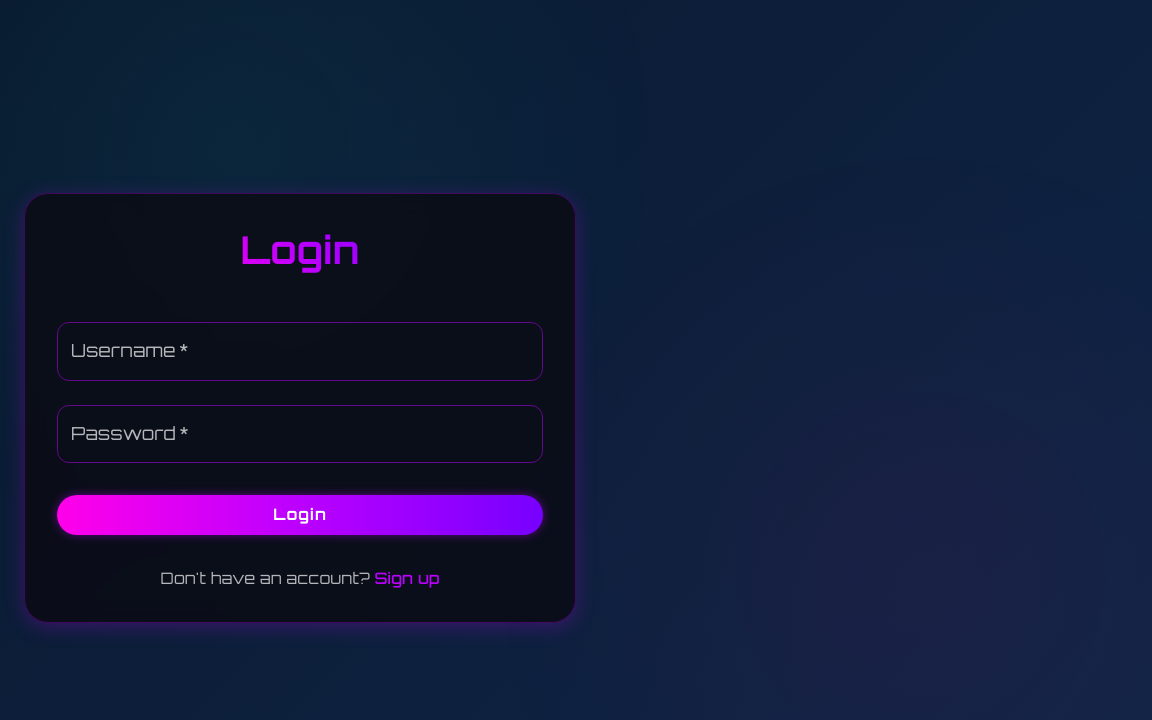
Test case: Login Component › handles login error
Type "wronguser" into the field labelled "Username *". click: (300, 351)
box: [57, 322, 543, 381]
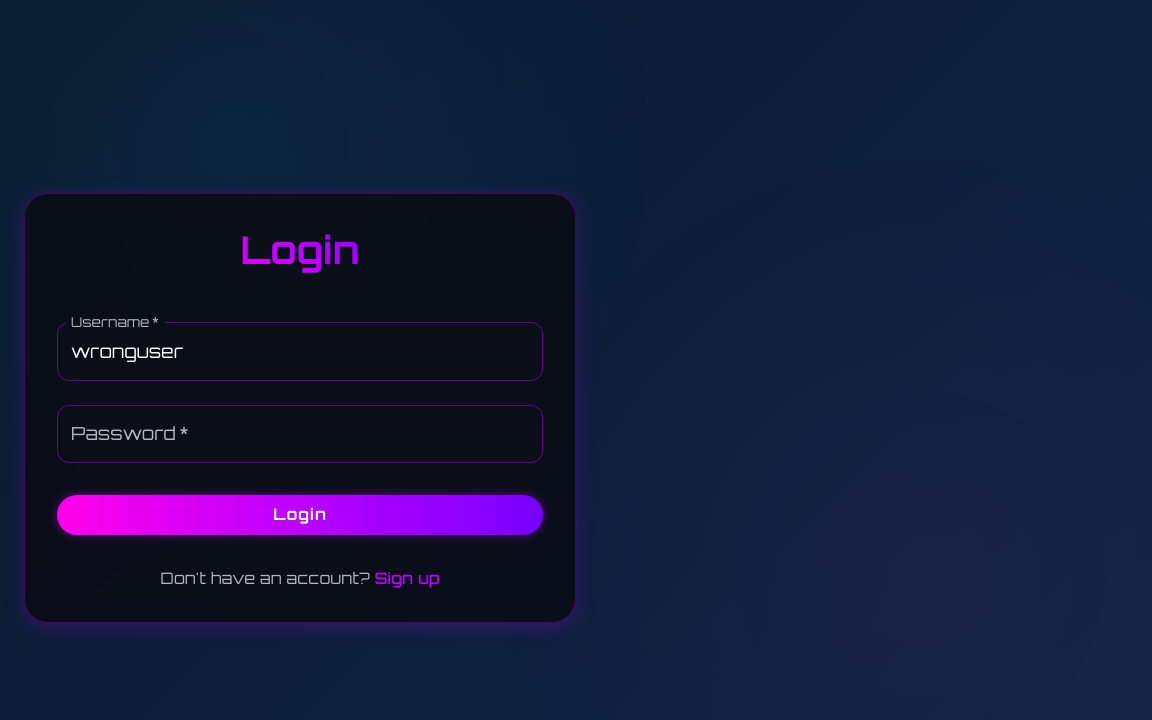
Type "wrongpass" into the password field labelled "Password *". click: (300, 434)
box: [57, 405, 543, 464]
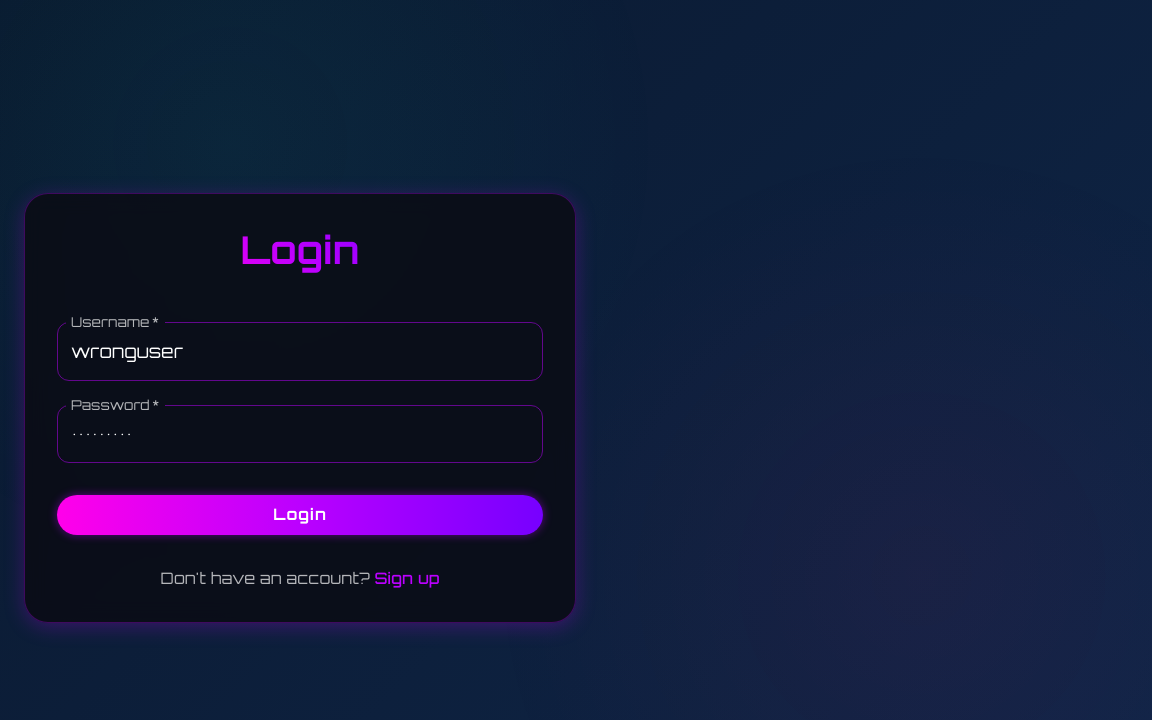
Click the button "Login". click: (300, 515)
box: [57, 496, 543, 535]
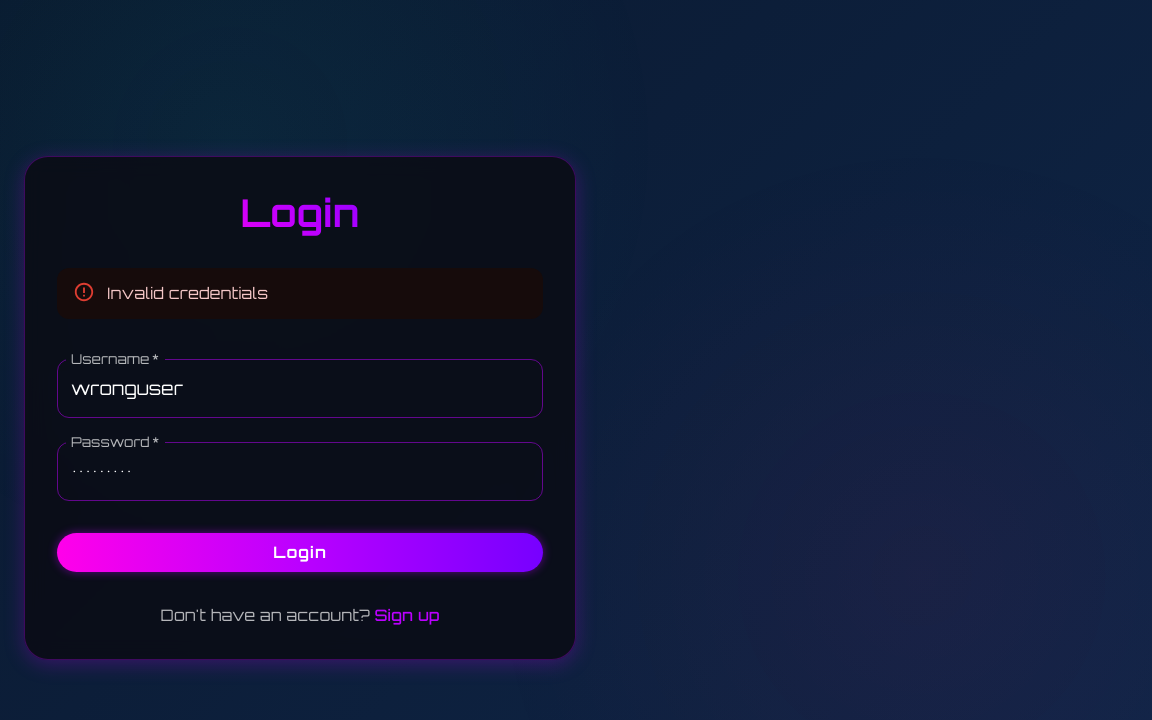
expect the text "Invalid credentials" is shown: met, box [107, 283, 268, 303]
